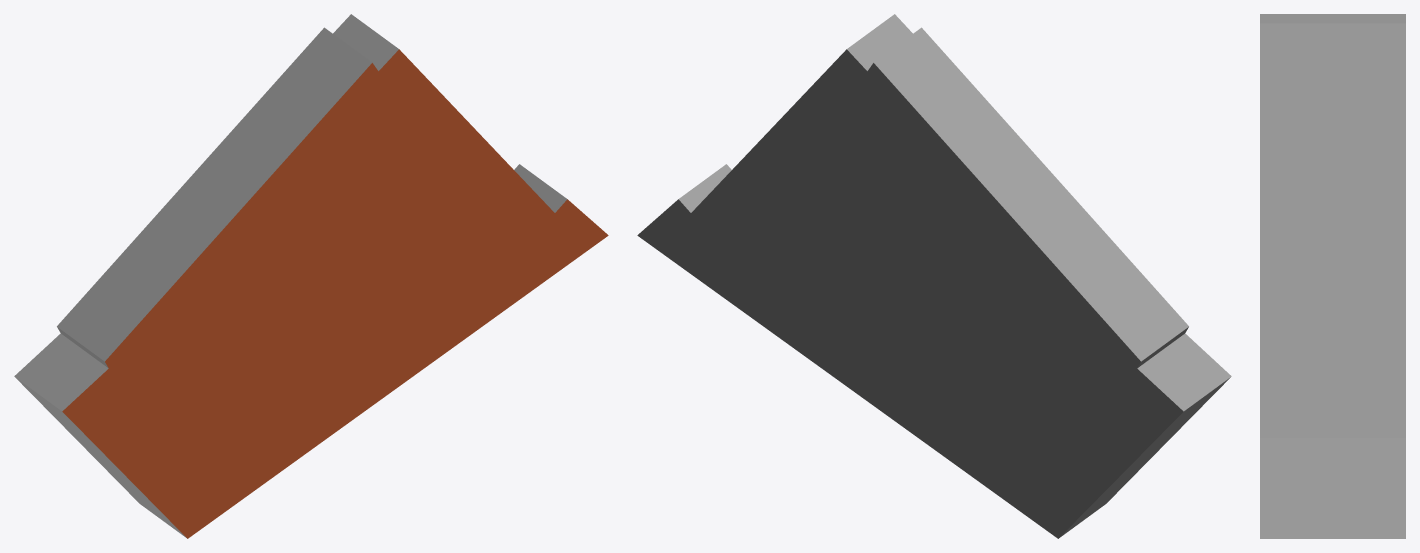
File: construction_6890_assumed_A_Casa_h6m.obj
3 renders of one model, left to right at view 1: azimuth 30°, elevation 25°; view 2: azimuth 150°, elevation 25°; view 3: azimuth 270°, elevation 25°, orthographic. The views are drawn at different scales.
Visible parts, largest first — view 1: construction_6890_assumed_A_Casa; view 2: construction_6890_assumed_A_Casa; view 3: construction_6890_assumed_A_Casa.
Boxes of the visible parts, x1,y1,x2,y2 form: construction_6890_assumed_A_Casa: (14,14,608,538); construction_6890_assumed_A_Casa: (637,14,1231,538); construction_6890_assumed_A_Casa: (1260,14,1405,538).
Bounding box in the file's own units: 39.39 × 30.18 × 6.
